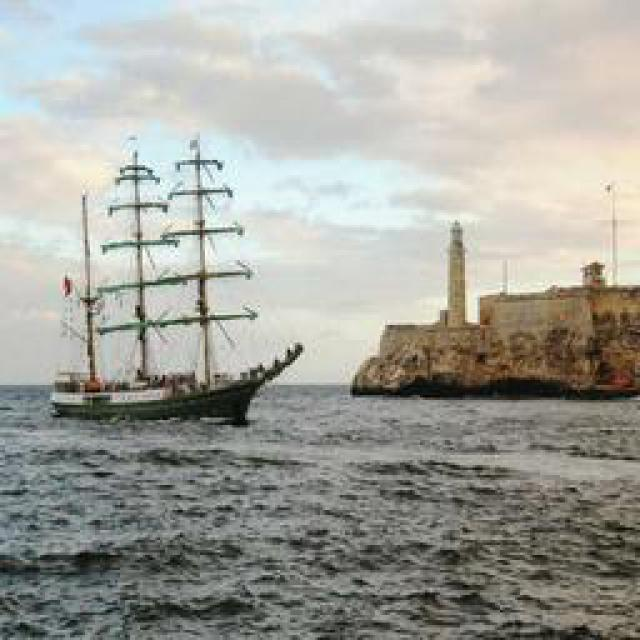Ship: (45, 134, 298, 419)
